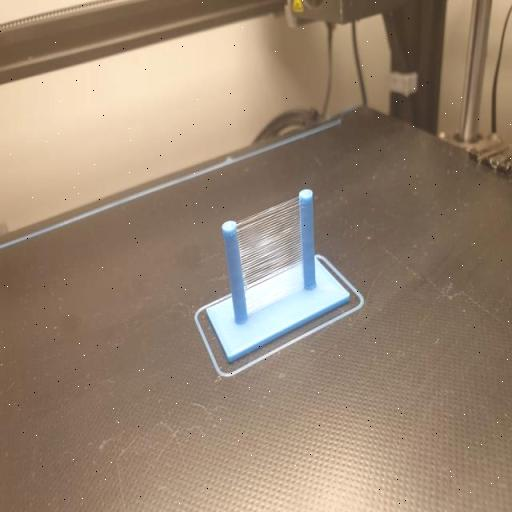stringing: (238, 191, 302, 316)
